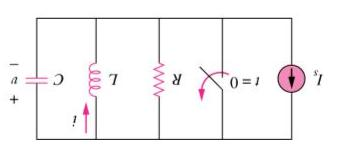Capacitor: (21, 65, 52, 89)
